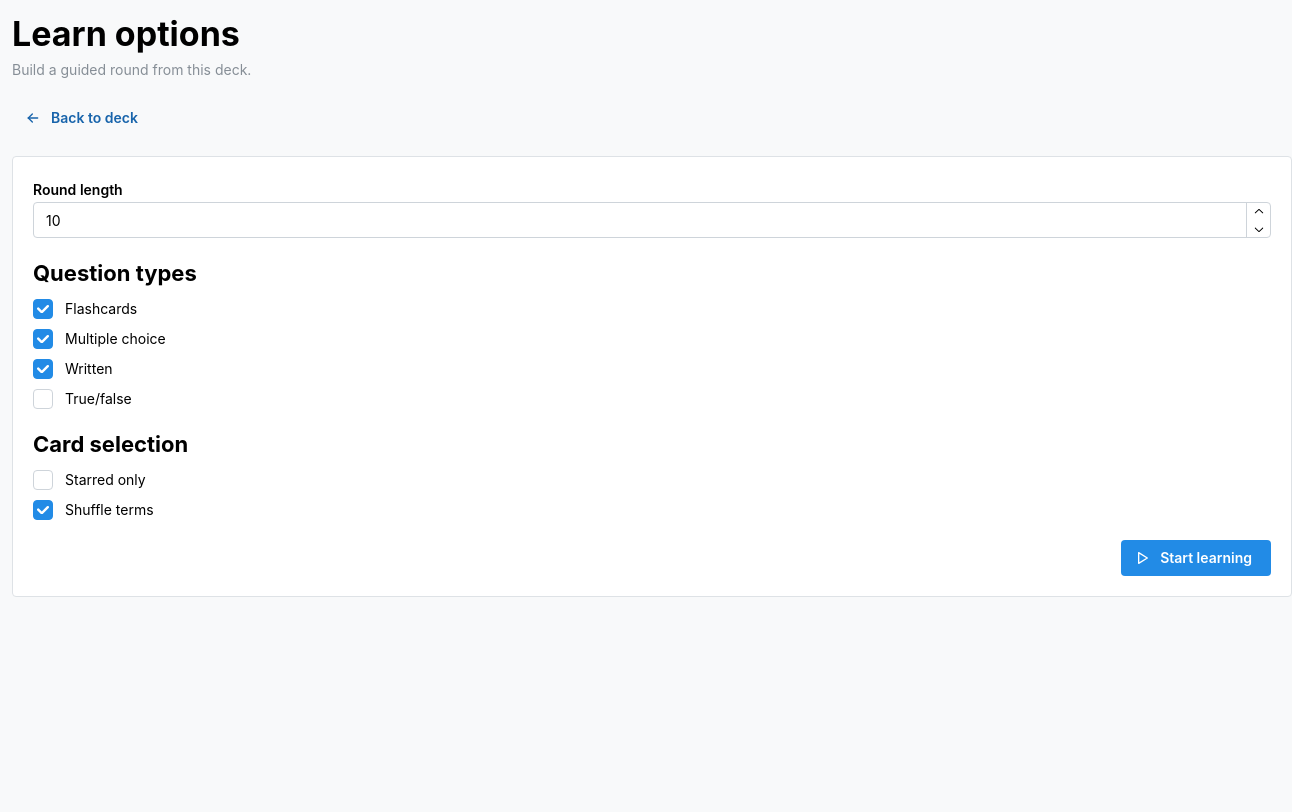
learn mode › shows an error alert when starting a learn session fails
This screenshot has width=1292, height=812.
Click the button "Start learning". click: click(1196, 558)
box: x1=1121 y1=540 x2=1271 y2=576
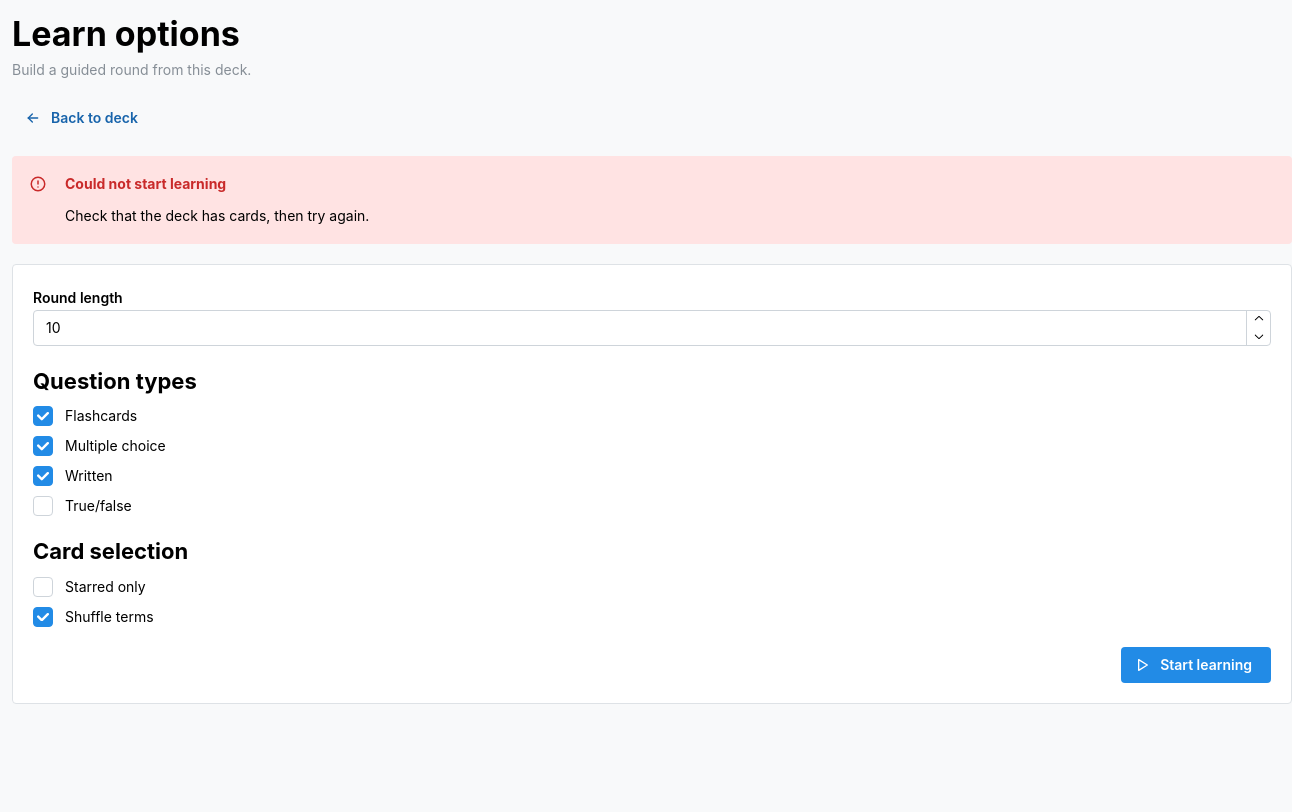
Now the text "Could not start learning" is shown, box x1=65 y1=174 x2=226 y2=195
Now the text "Check that the deck has cards, then try again." is shown, box x1=65 y1=207 x2=369 y2=224
